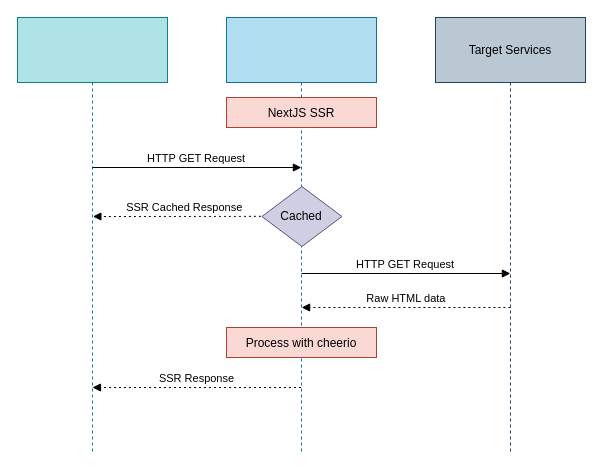
The diagram is 603 pixels wide and 469 high, and some of its shapes have lost their labels. Each missing label, with the box of its shape:
Client: (16, 16, 168, 452)
Server: (226, 16, 376, 452)
